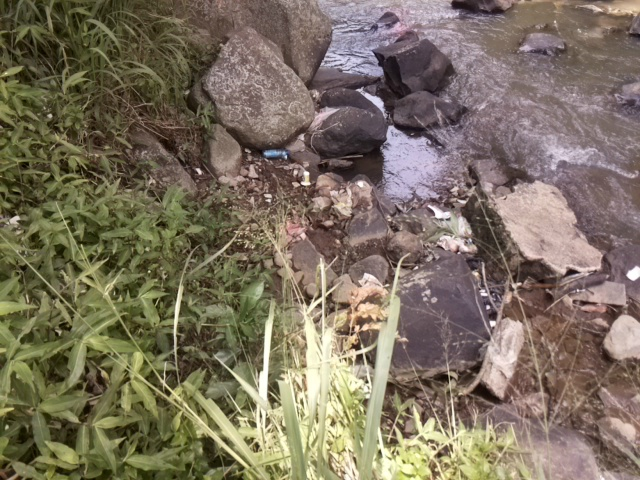Sampah_Botol_Plastik: (261, 148, 301, 162)
Sampah_Plastik: (435, 202, 475, 255), (309, 106, 345, 132)
Sampah_Styrofoam: (301, 171, 311, 185)
